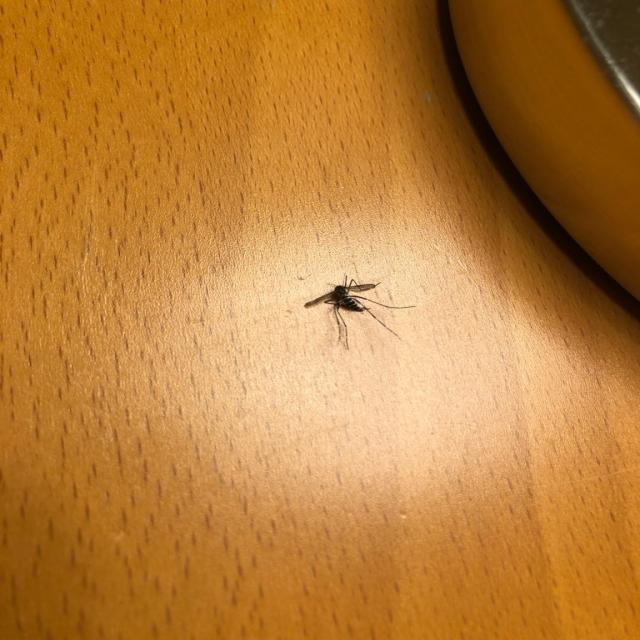albopictus: (300, 267, 413, 349)
